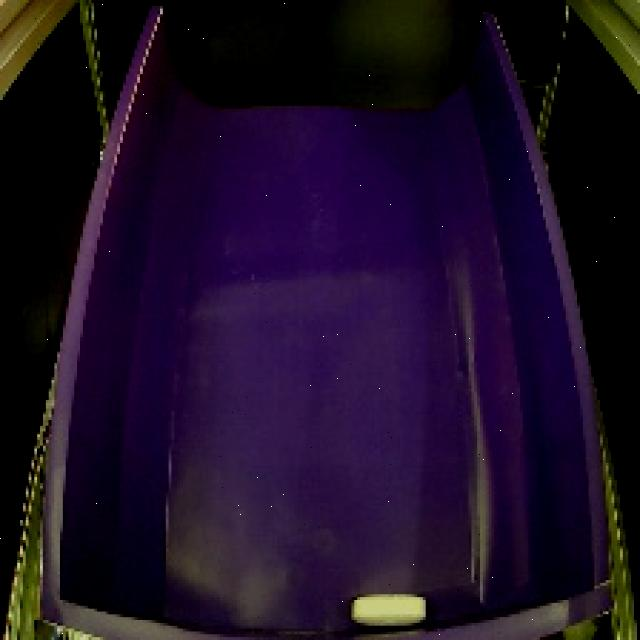small: (348, 585, 436, 634)
